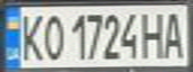1: (66, 10, 87, 61)
2: (103, 10, 124, 61)
4: (118, 9, 142, 60)
7: (84, 10, 106, 61)
A: (157, 8, 190, 60)
H: (139, 8, 169, 60)
K: (15, 9, 45, 62)
O: (39, 10, 66, 62)
